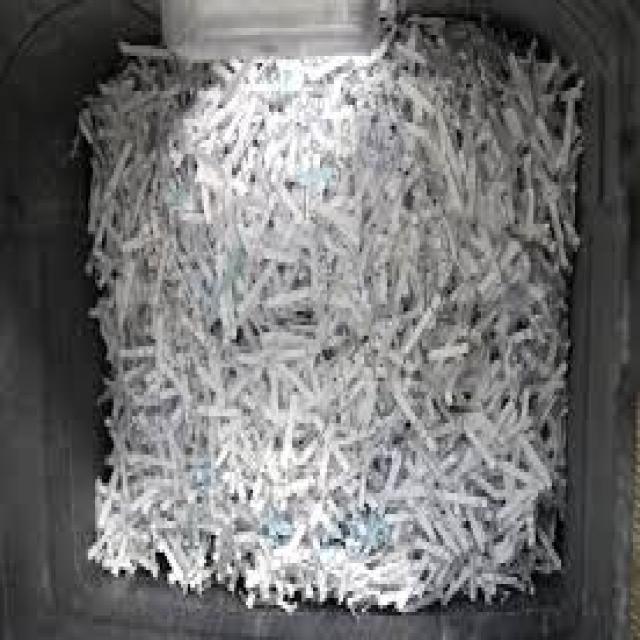paper: (75, 21, 585, 612)
